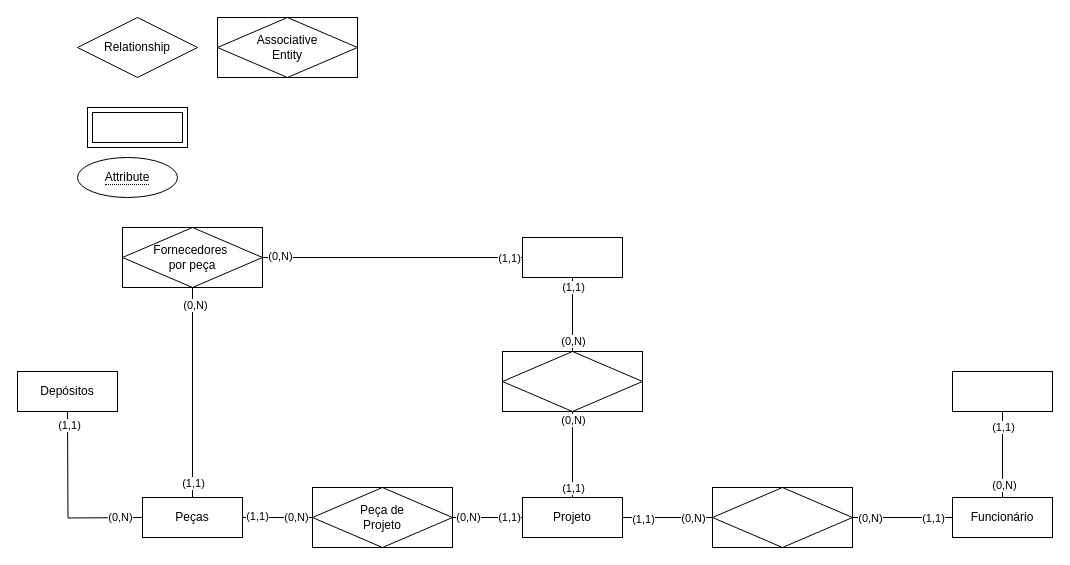
The diagram is 1070 pixels wide and 565 high, and some of its shapes have lost their labels. The shapes that lost their labels are listed below. From the top down, each one's centre as x and y in pixels, then its label:
the point at 137,127: Entity
the point at 572,257: Fornecedor
the point at 572,381: Fornecedor de projeto
the point at 1002,391: Departamento
the point at 782,517: Ter/Pertencer
